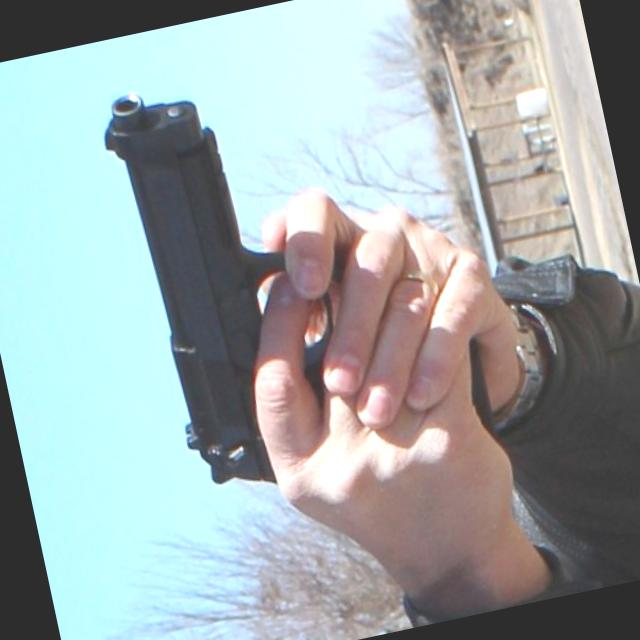handgun: (92, 32, 499, 506)
